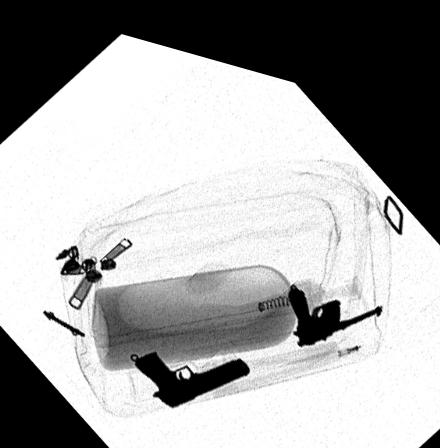Gun: (133, 341, 251, 399), (287, 269, 382, 331)
